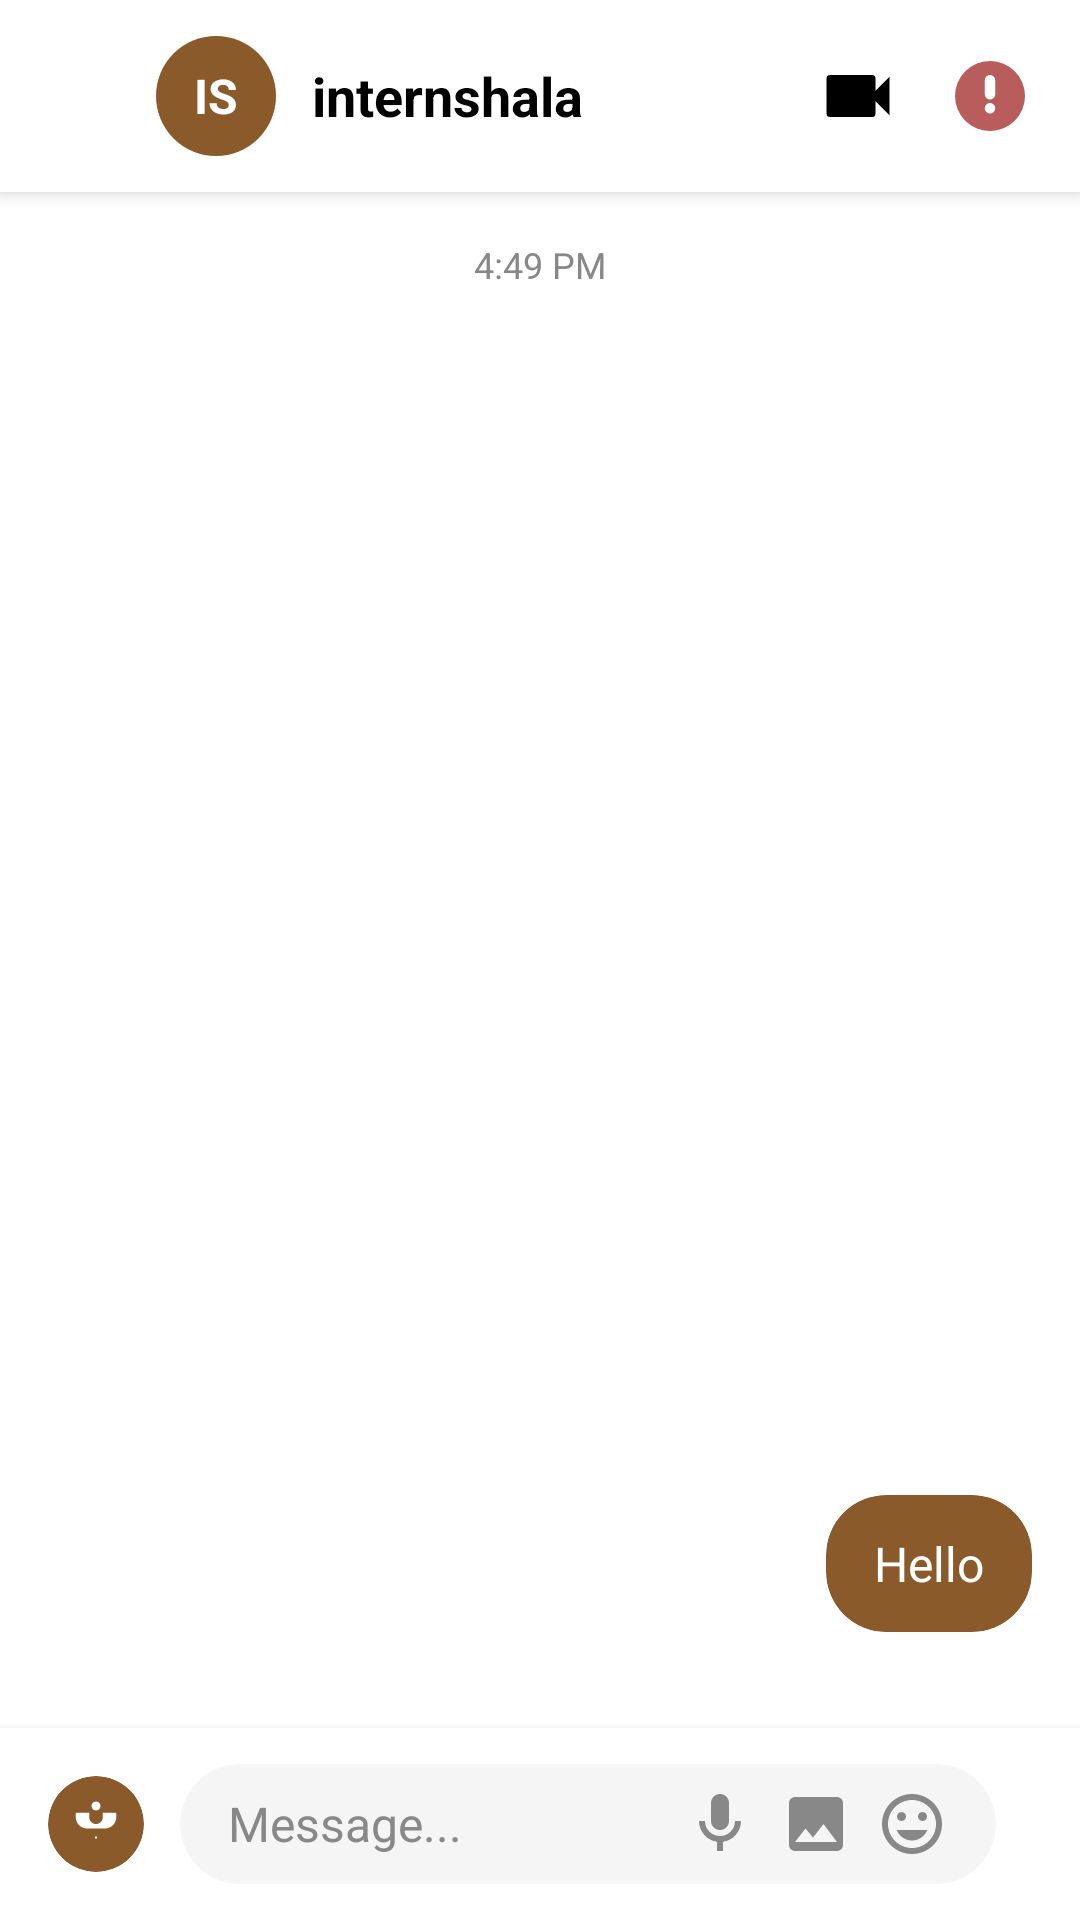

Screen size 1080x1920. Icon name, then its center in pixels as [x,y]:
emoji: [912,1824]
gallery: [816,1824]
mic: [720,1822]
video call: [858,96]
